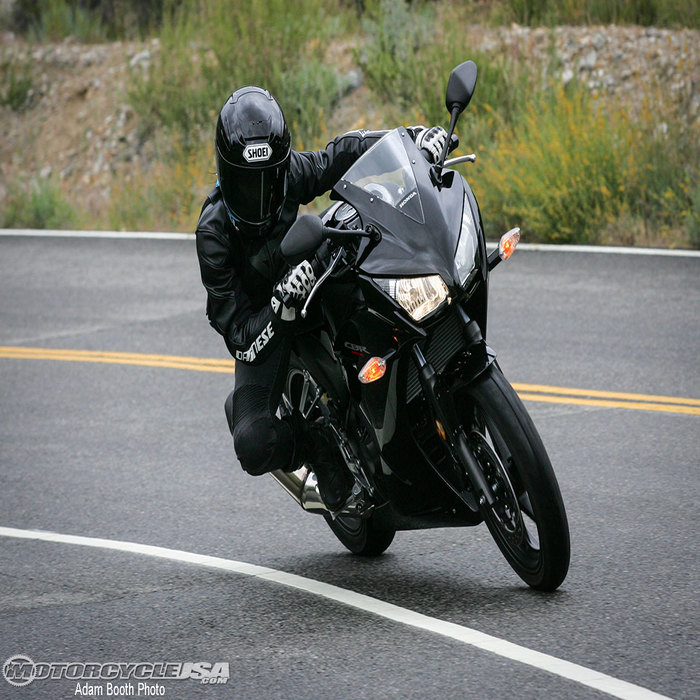h: (217, 81, 296, 242)
